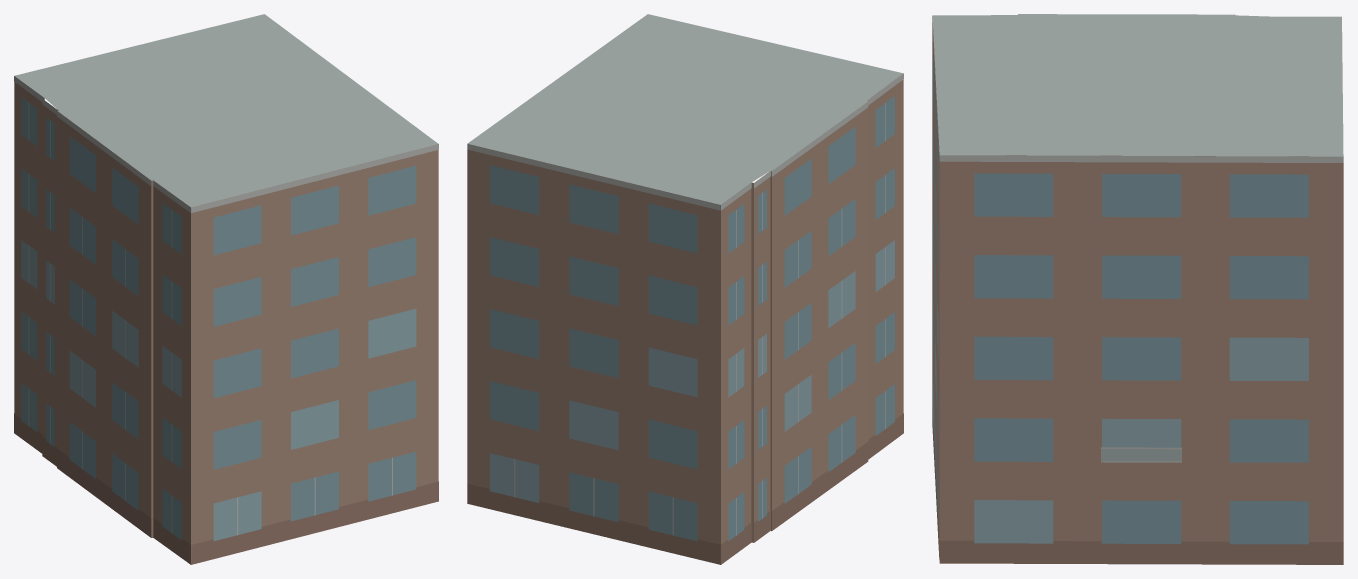
File: survey-upis-32840874.glb
3 views of the same model, side by side, from view 1: azimuth 30°, elevation 25°; view 2: azimuth 150°, elevation 25°; view 3: azimuth 270°, elevation 25° (orthographic). The views are drawn at different scales.
Parts seen in each view (by area): view 1: survey-upis-32840874.tmp; view 2: survey-upis-32840874.tmp; view 3: survey-upis-32840874.tmp.
Part boxes in pixels (x1=…): survey-upis-32840874.tmp: x1=14, y1=14, x2=438, y2=564; survey-upis-32840874.tmp: x1=467, y1=14, x2=903, y2=564; survey-upis-32840874.tmp: x1=932, y1=14, x2=1343, y2=564.
Bounding box in the file's own units: 11.43 × 15.25 × 13.93.
